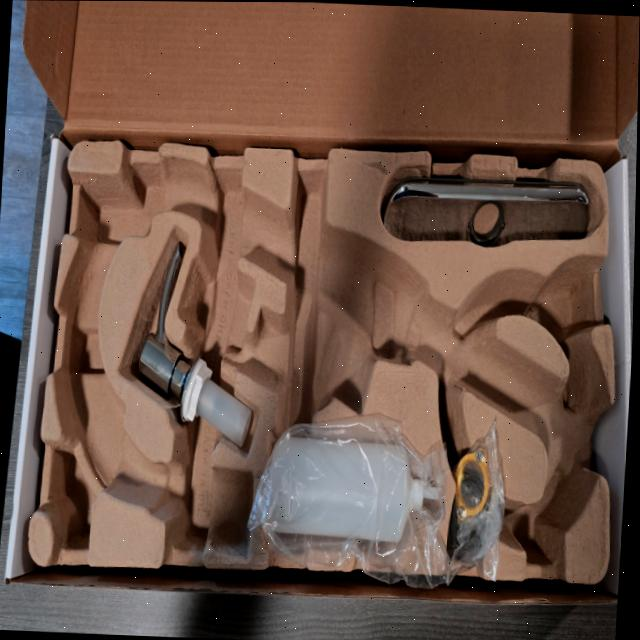1m: (59, 159, 606, 553)
2: (134, 241, 251, 450)
3: (263, 433, 439, 545)
4: (381, 179, 590, 247)
5m: (529, 266, 588, 334)
6: (442, 419, 505, 590)
7m: (503, 465, 580, 567)
